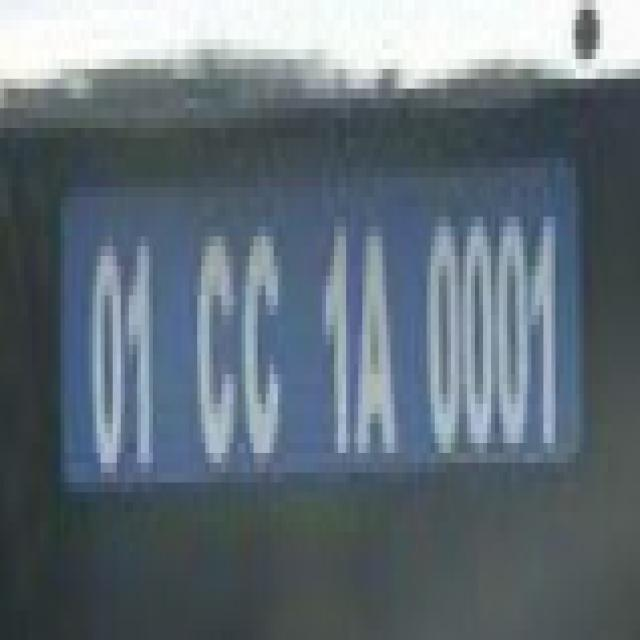0: (81, 224, 127, 487), (493, 190, 534, 484), (426, 208, 466, 466), (462, 206, 496, 454)
1: (121, 218, 164, 486), (319, 190, 353, 476), (530, 194, 560, 463)
A: (353, 202, 406, 461)
C: (237, 195, 290, 466), (193, 206, 240, 478)
